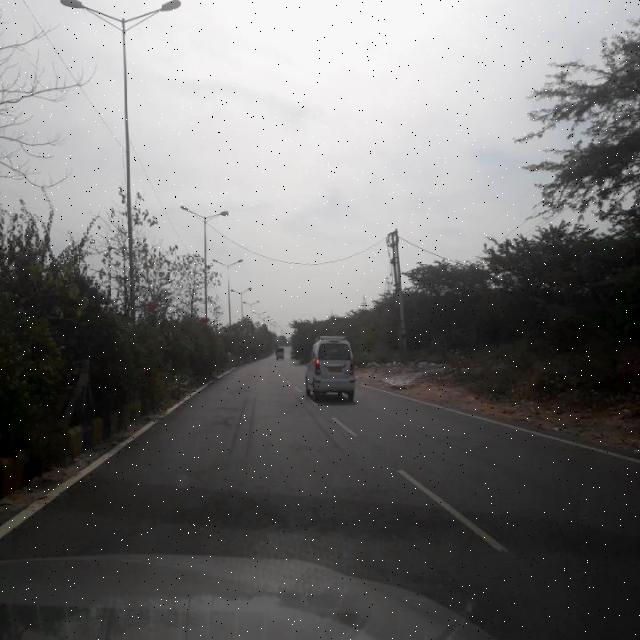D00: (215, 377, 269, 464), (278, 388, 340, 452)
D40: (129, 492, 262, 553), (274, 498, 345, 532)
